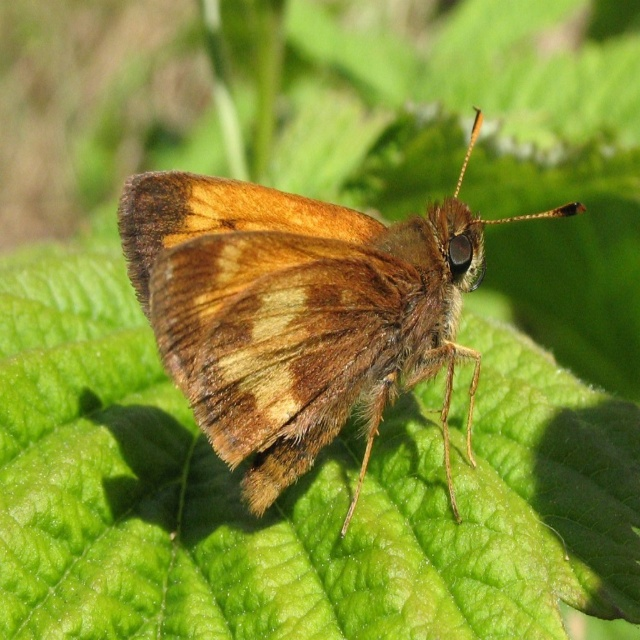Butterfly: (114, 104, 562, 579)
